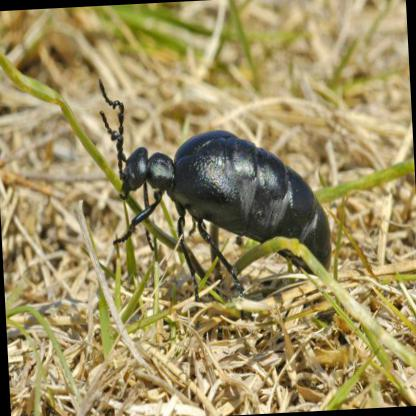blister beetle: (103, 100, 331, 290)
